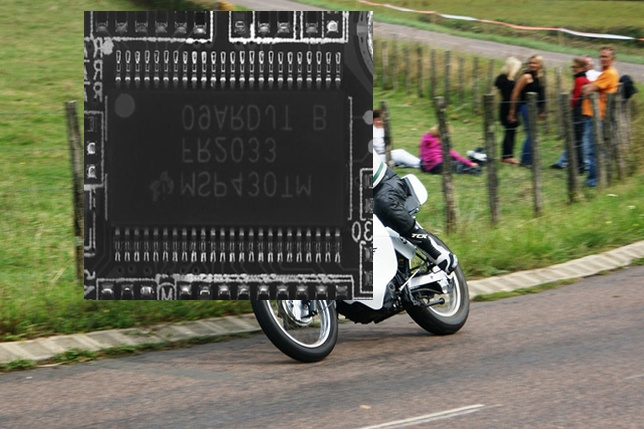PIN: (105, 213, 351, 270), (104, 45, 352, 100)
motorcycle: (241, 152, 469, 362)
